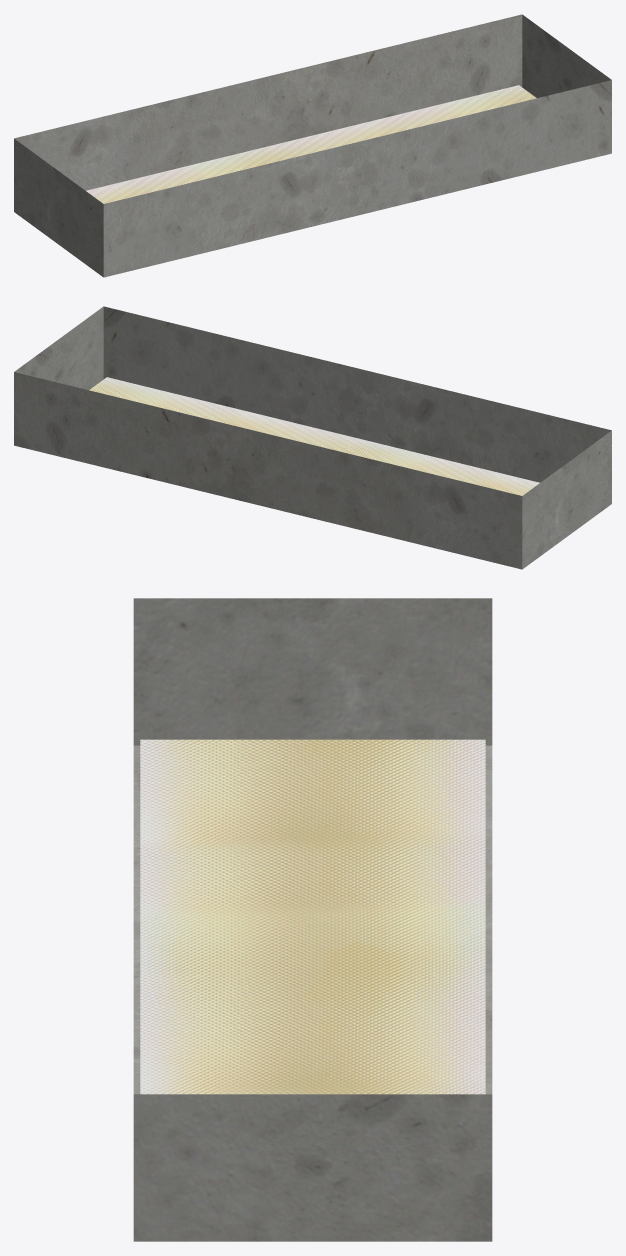
The model's file is Light_Fluor_B1.fbx.
3 renders of one model, top to bottom at view 1: azimuth 30°, elevation 25°; view 2: azimuth 150°, elevation 25°; view 3: azimuth 270°, elevation 25°, orthographic. The views are drawn at different scales.
Visible parts, largest first — view 1: Light_Fluor_B1; view 2: Light_Fluor_B1; view 3: Light_Fluor_B1.
Boxes of the visible parts, x1,y1,x2,y2 form: Light_Fluor_B1: (14,14,611,277); Light_Fluor_B1: (14,306,611,569); Light_Fluor_B1: (133,598,492,1241).
Size of the model in its own units: 1.63 by 0.226 by 0.4994.
